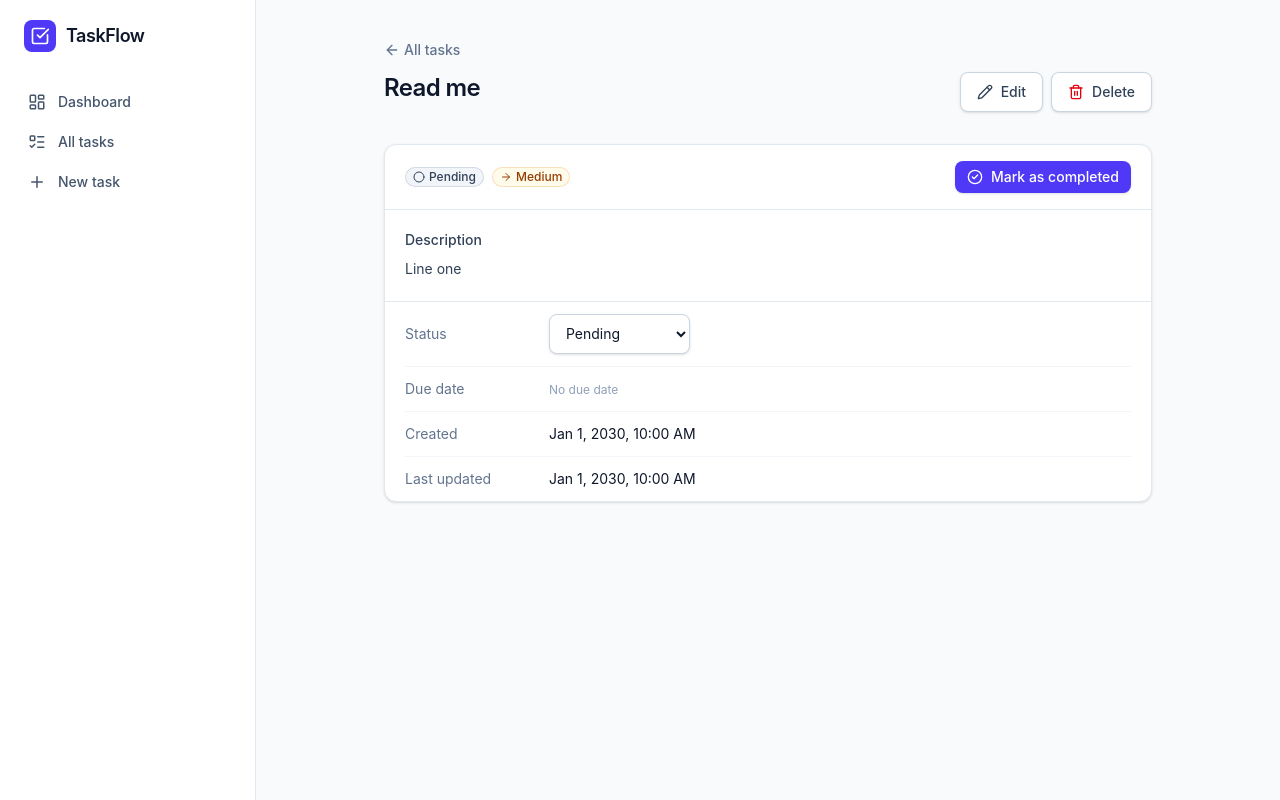
Test case: Task details › shows the task and changes its status
Expected: the heading "Read me" is shown, x1=384 y1=72 x2=480 y2=104
Expected: the text "Line one" is shown, x1=405 y1=260 x2=462 y2=277
Click the button "Mark as completed".
click(1043, 177)  # box x1=955 y1=161 x2=1131 y2=193
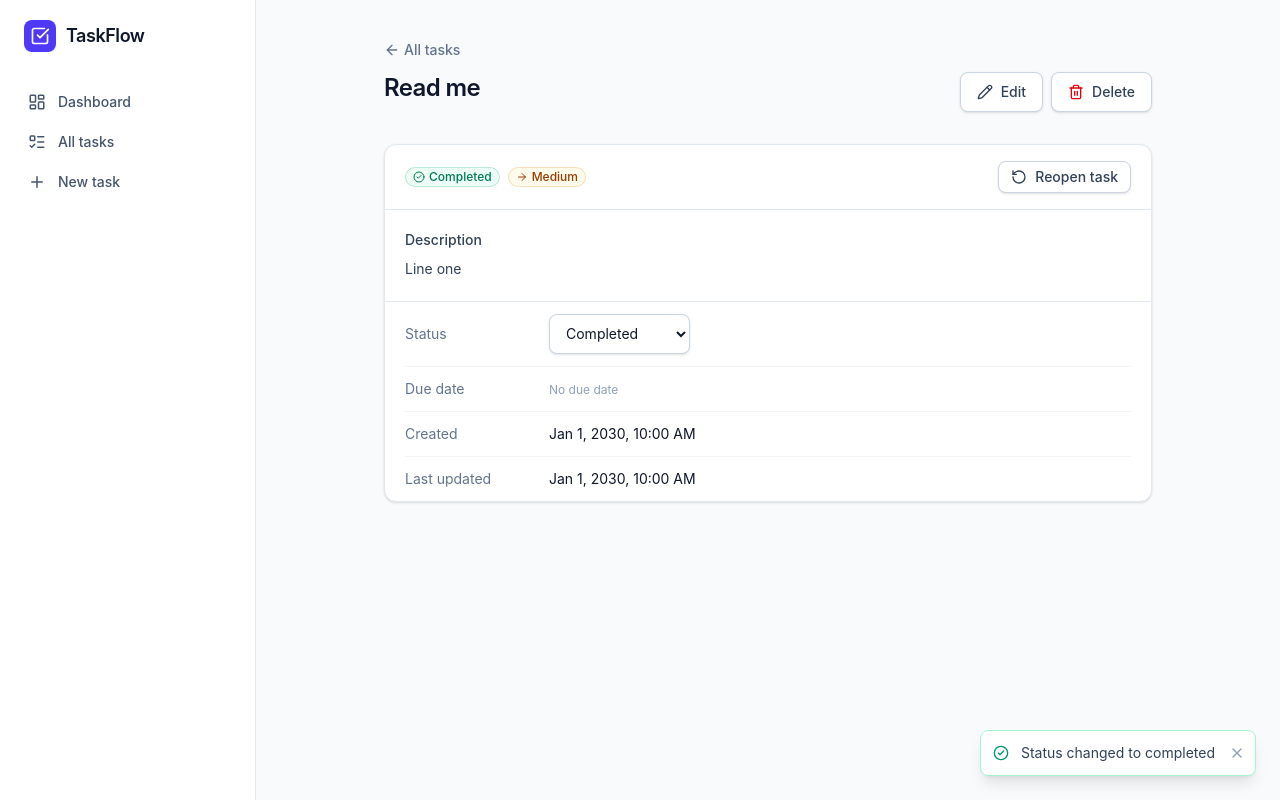
Now the button "Reopen task" is shown, box x1=998 y1=161 x2=1131 y2=193
